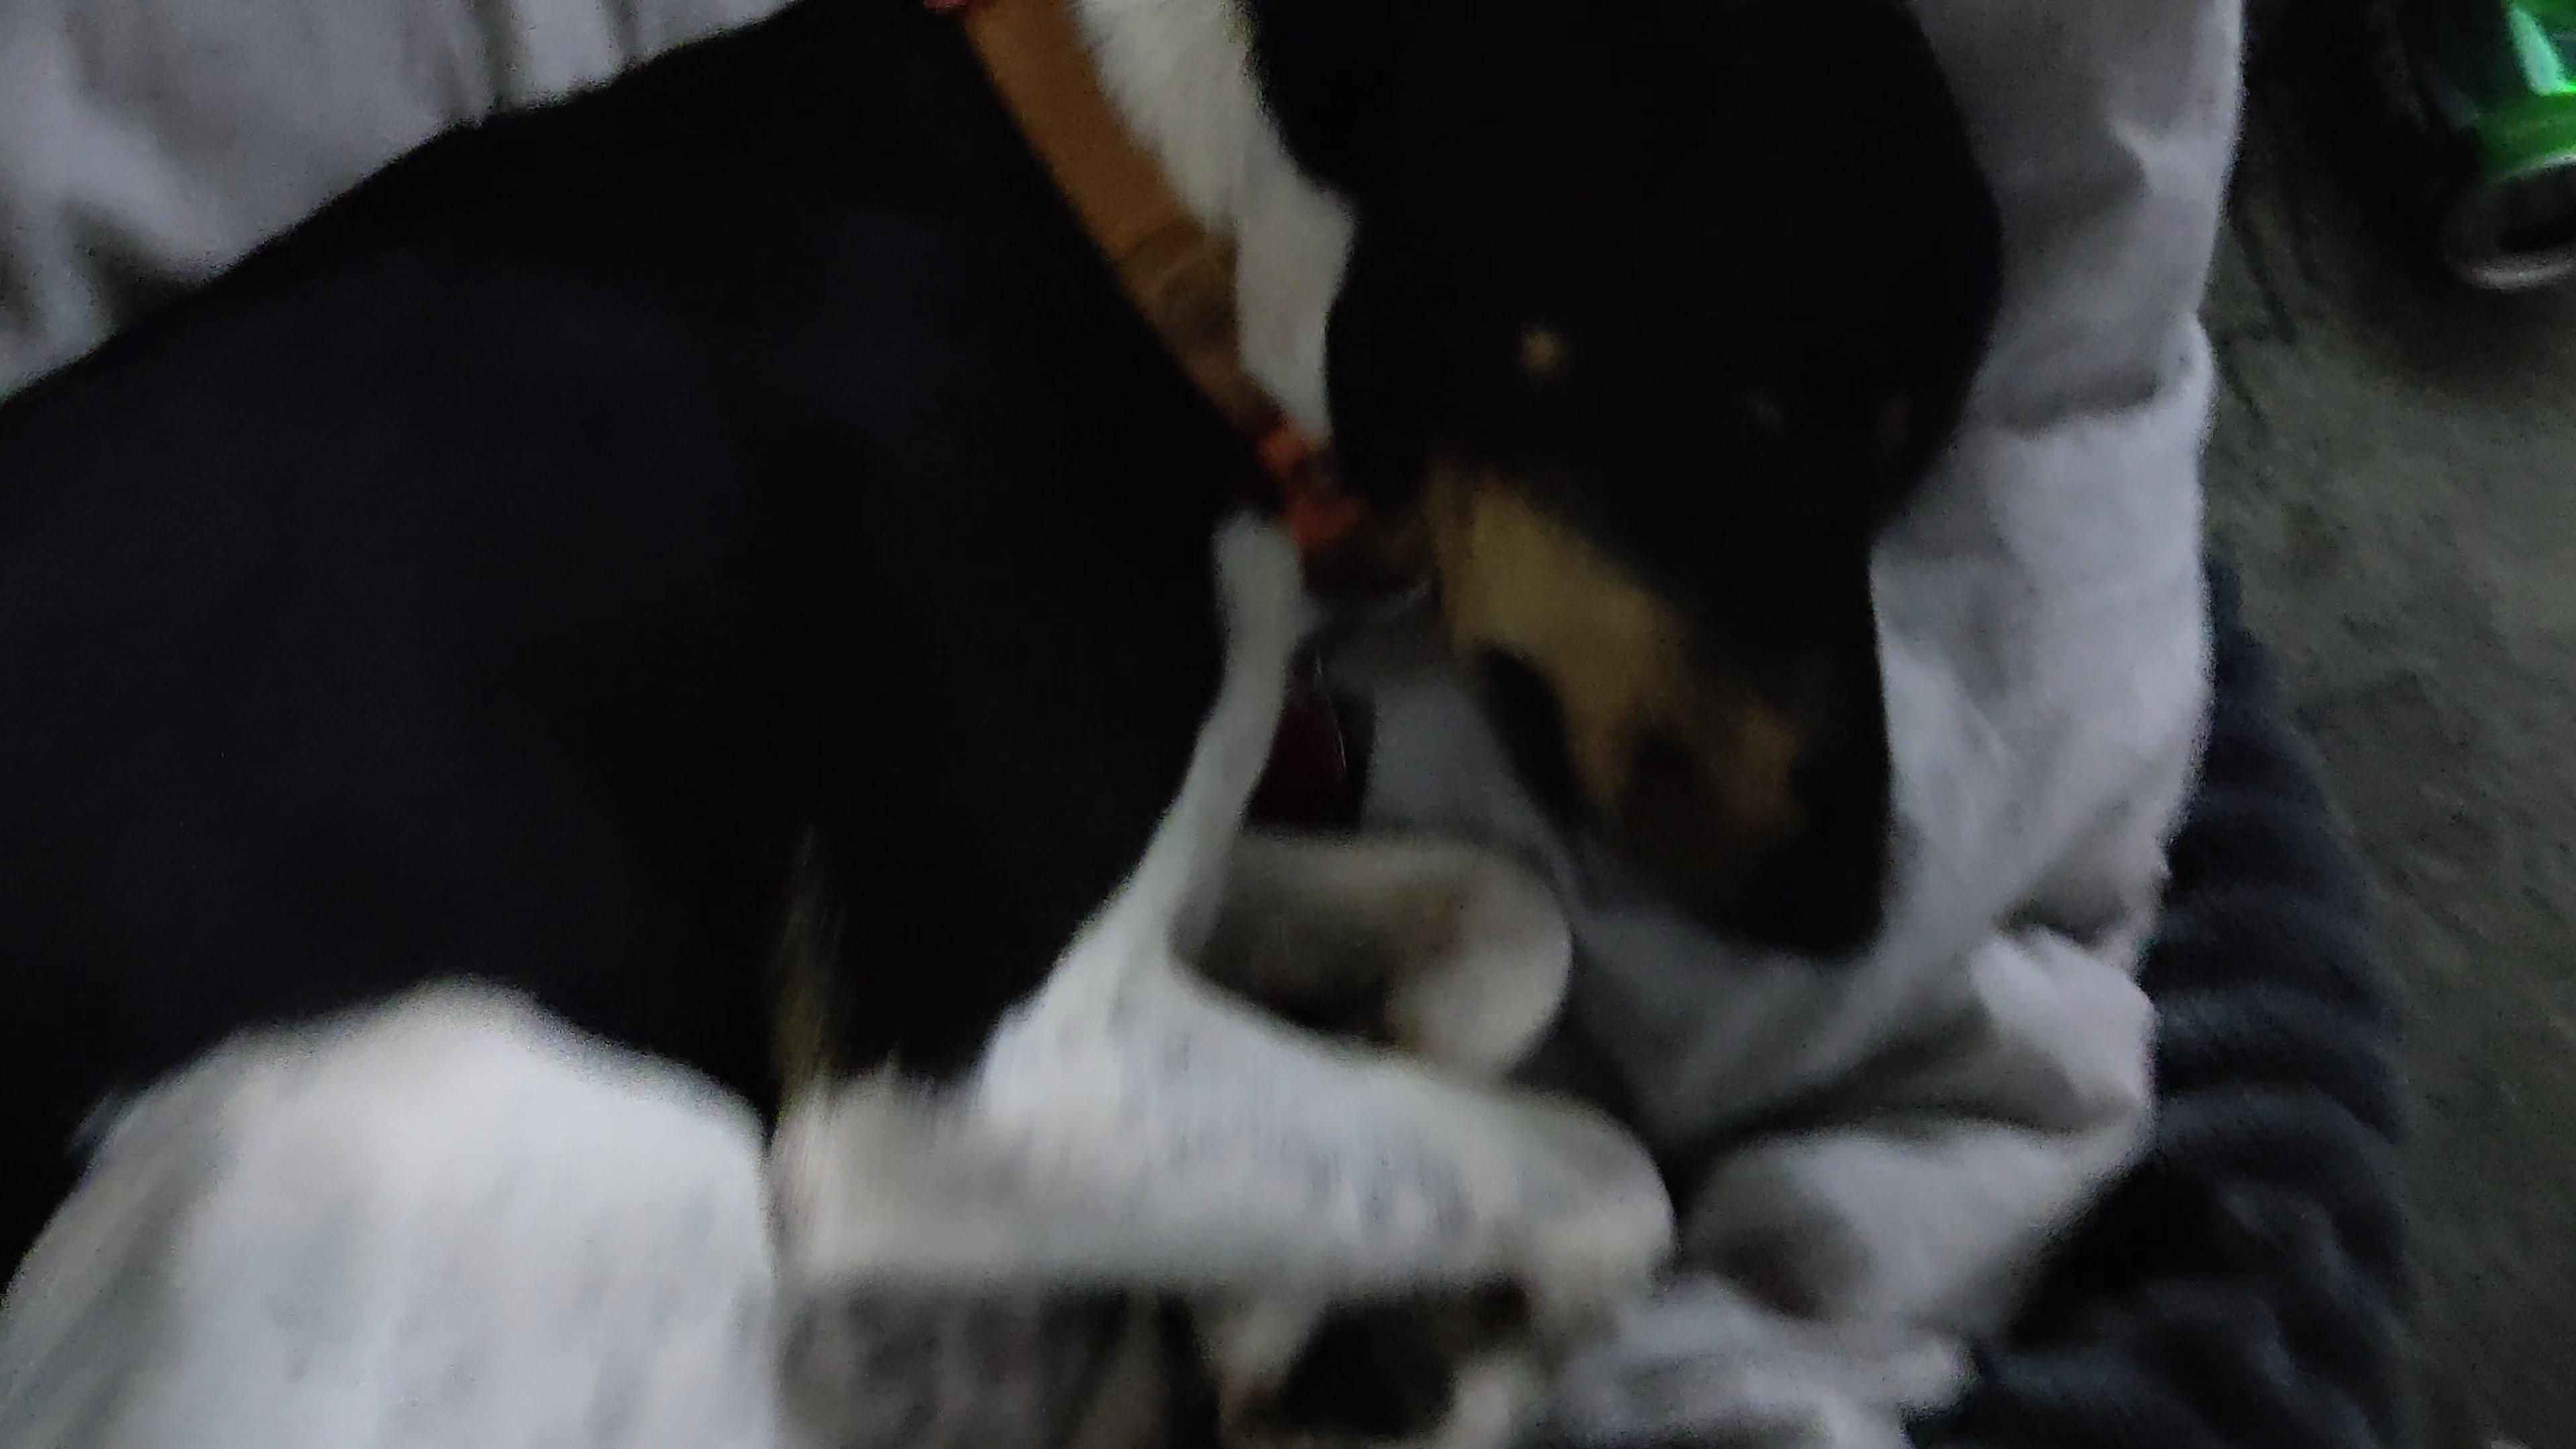Dog: (0, 0, 2017, 1449)
